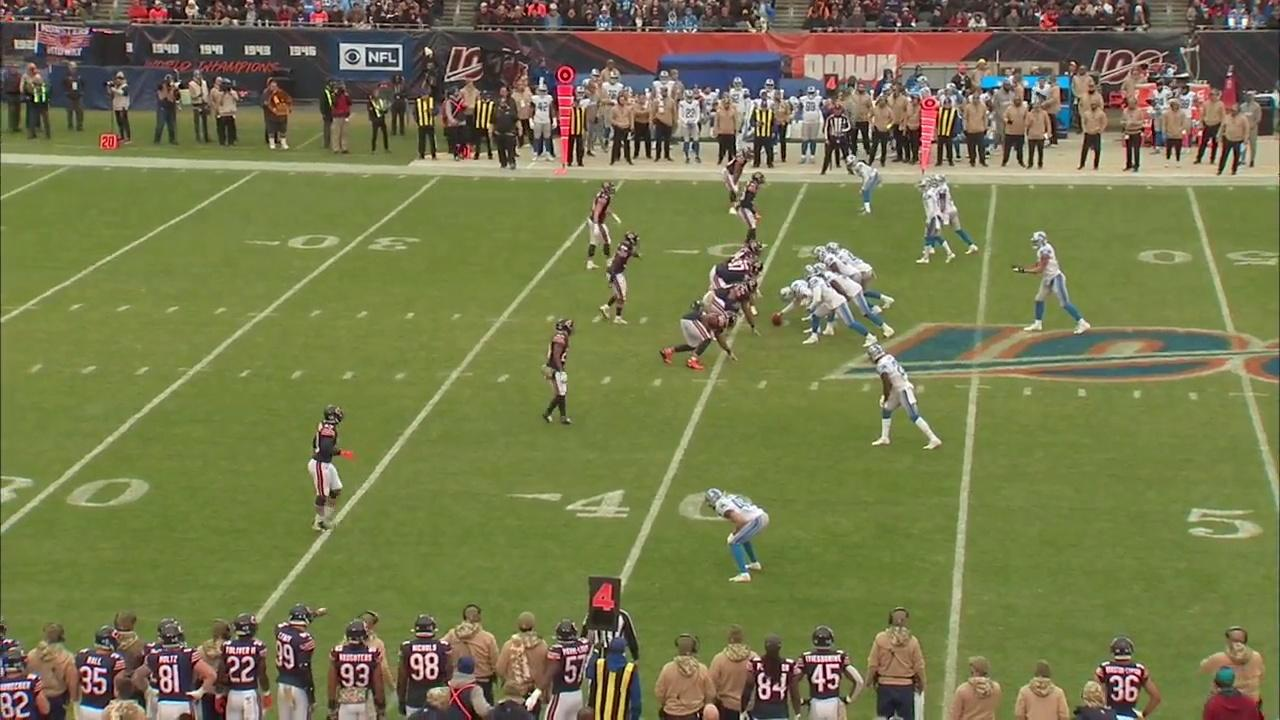player: (1013, 228, 1093, 339), (865, 341, 943, 454), (303, 400, 358, 536), (701, 485, 773, 587), (800, 262, 878, 347), (813, 261, 895, 341), (657, 308, 740, 373), (825, 241, 897, 312), (812, 245, 882, 316), (922, 173, 981, 257), (597, 229, 645, 327), (540, 317, 577, 427), (915, 175, 957, 268), (704, 276, 762, 343), (584, 179, 623, 271), (707, 257, 766, 316), (772, 276, 821, 335), (723, 239, 768, 298), (736, 170, 769, 249), (722, 145, 757, 217), (844, 153, 883, 217)
ref: (573, 581, 636, 702), (817, 101, 855, 177)
